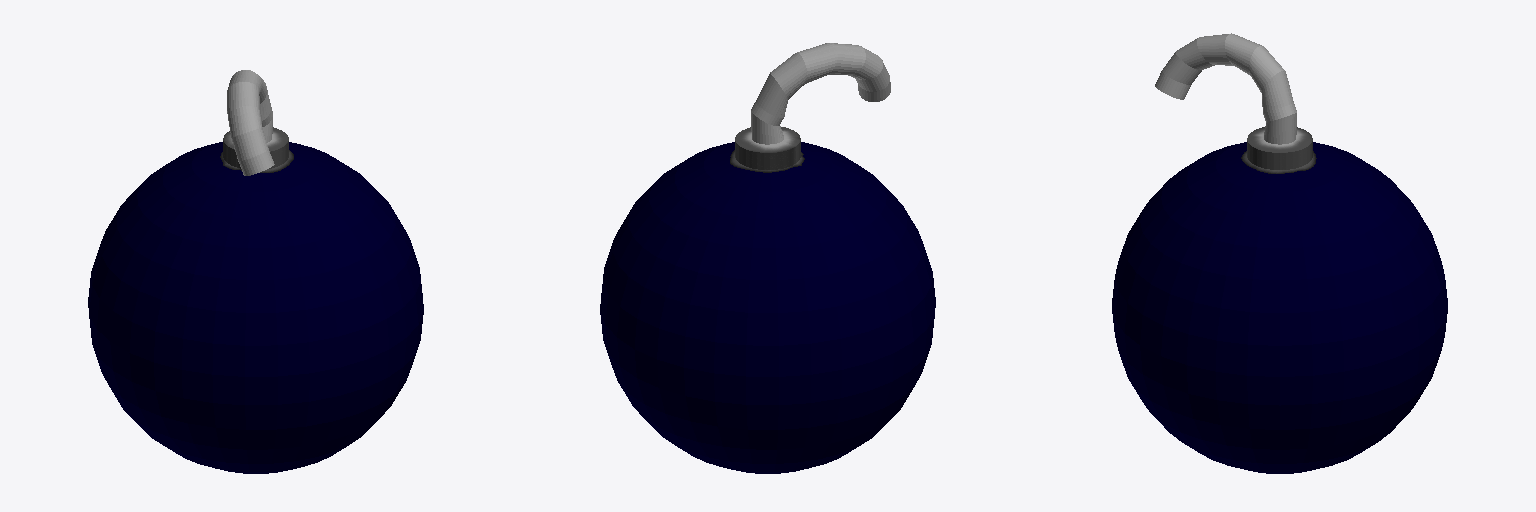
3 renders of one model, left to right at view 1: azimuth 30°, elevation 25°; view 2: azimuth 150°, elevation 25°; view 3: azimuth 270°, elevation 25°, orthographic.
Parts seen in each view (by area): view 1: Sphere; view 2: Sphere; view 3: Sphere.
Boxes of the visible parts, <box> form: Sphere: <box>88,70,423,473</box>; Sphere: <box>600,43,935,473</box>; Sphere: <box>1112,33,1447,473</box>.
Bounding box in the file's own units: 2 × 2.66 × 2.
Materials: 1 (1 with a texture image).